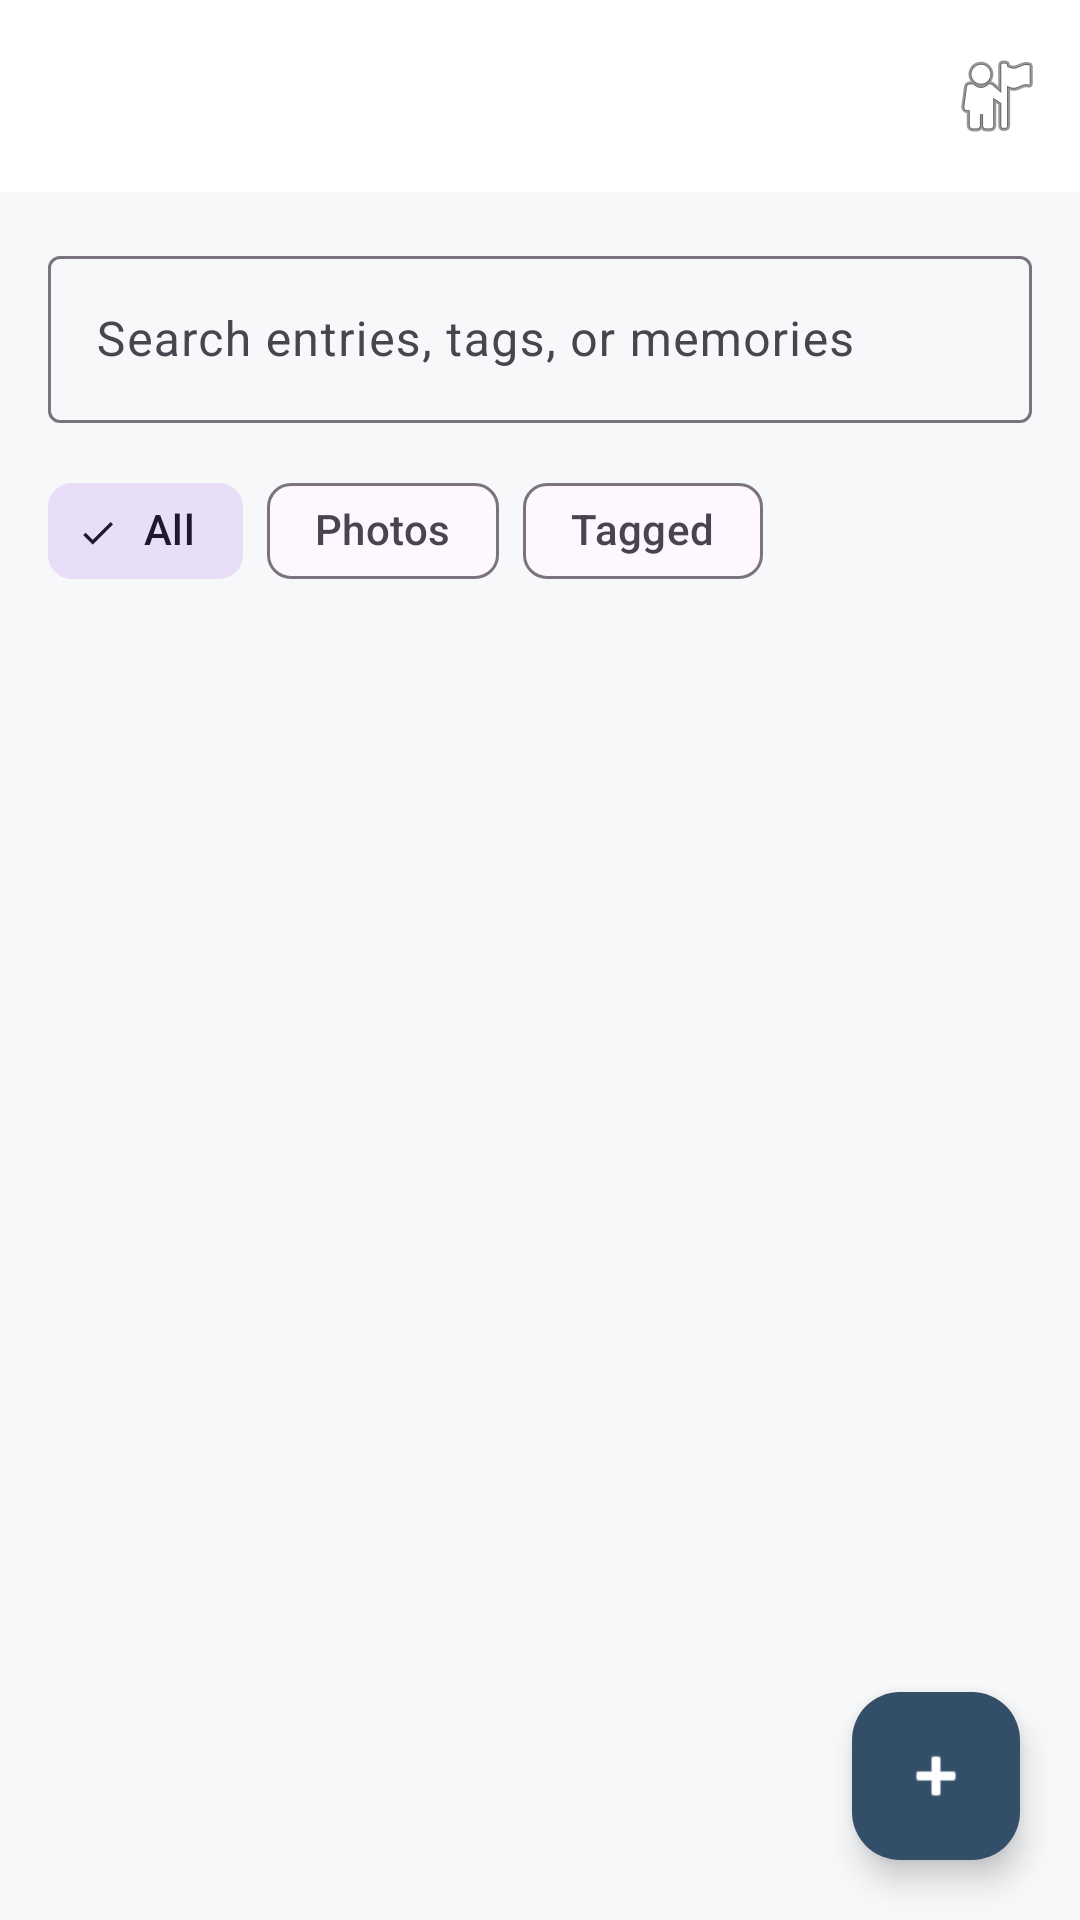

Locate icon controls on the screen. Image size 1080w x 1920h, boxes as detection(x1, y1, x2, y2).
New Entry: detection(852, 1692, 1020, 1860)
